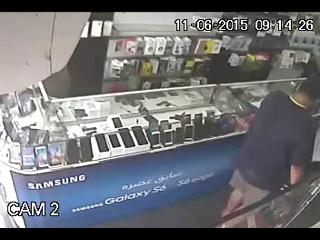Normal: (218, 70, 320, 220)
